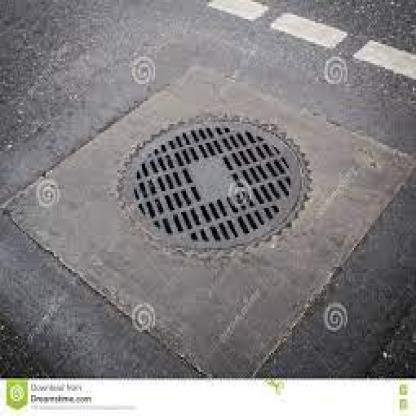open drainage-not overflowing-: (113, 108, 326, 270)
